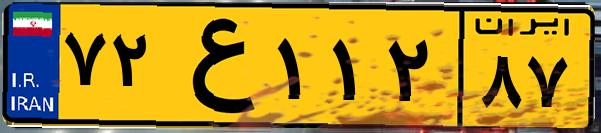1: (270, 28, 330, 110), (330, 28, 385, 110)
2: (385, 28, 445, 110), (110, 28, 158, 98)
7: (57, 26, 110, 100), (525, 38, 570, 115)
8: (475, 38, 525, 113)
ع: (158, 12, 270, 120)
